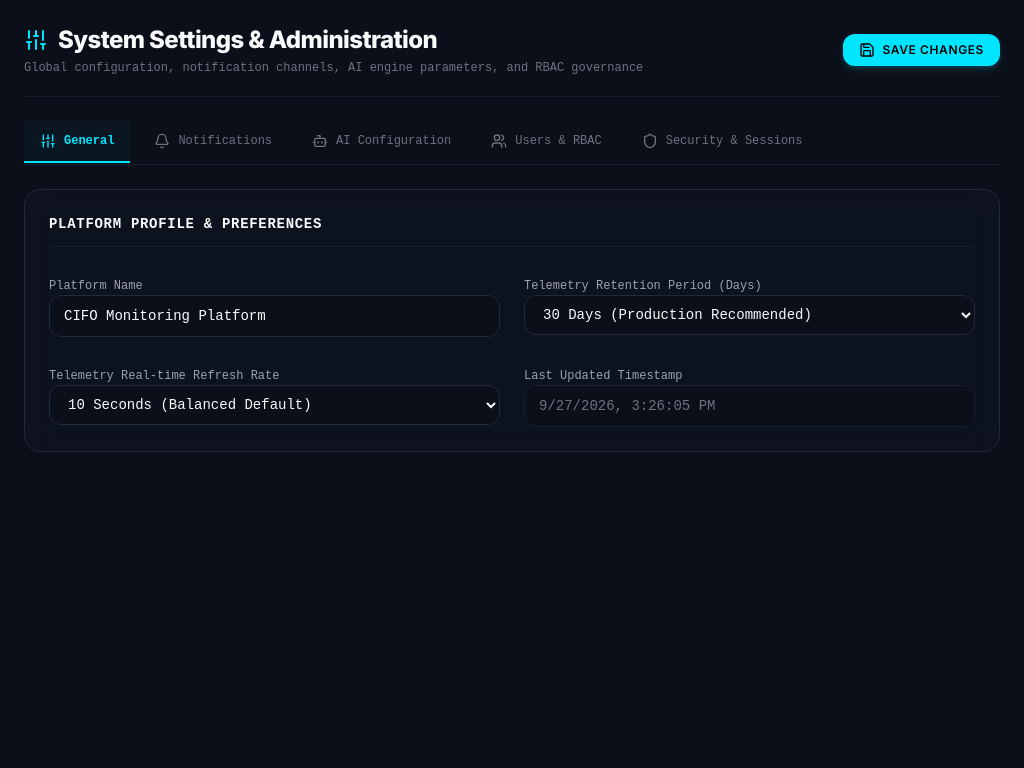
Test: SettingsPage › should switch to Security tab and show sessions list
Expected: the text "Security & Sessions" is shown, [666, 133, 802, 149]
Click the button "Security & Sessions" at (722, 142), box [626, 121, 818, 163]
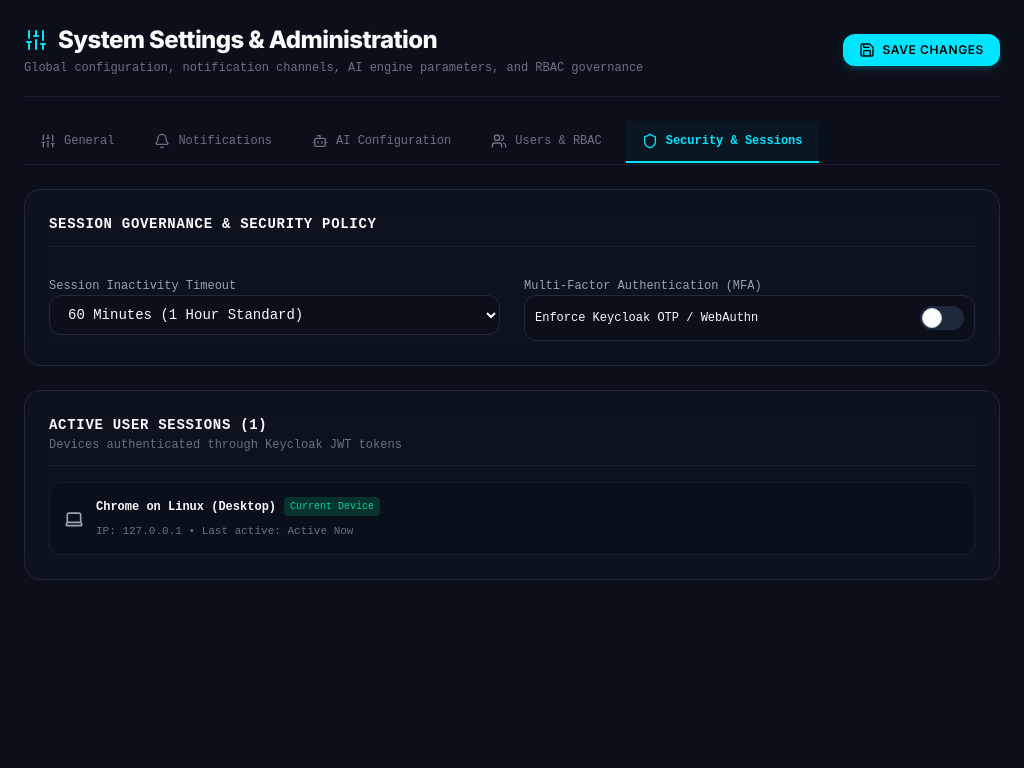
Expected: the heading "Session Governance & Security Policy" is shown, [49, 214, 975, 247]
Expected: the heading "Active User Sessions (1)" is shown, [49, 417, 268, 433]
